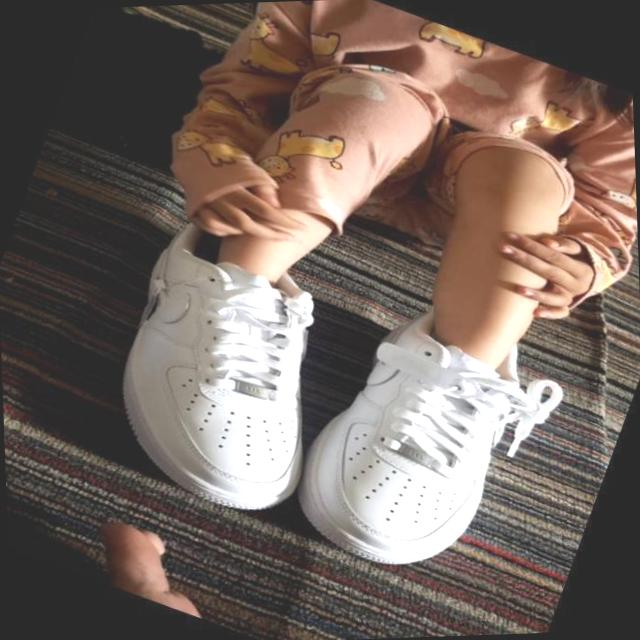nike_original_airforce: (68, 210, 377, 537), (270, 275, 549, 593)
